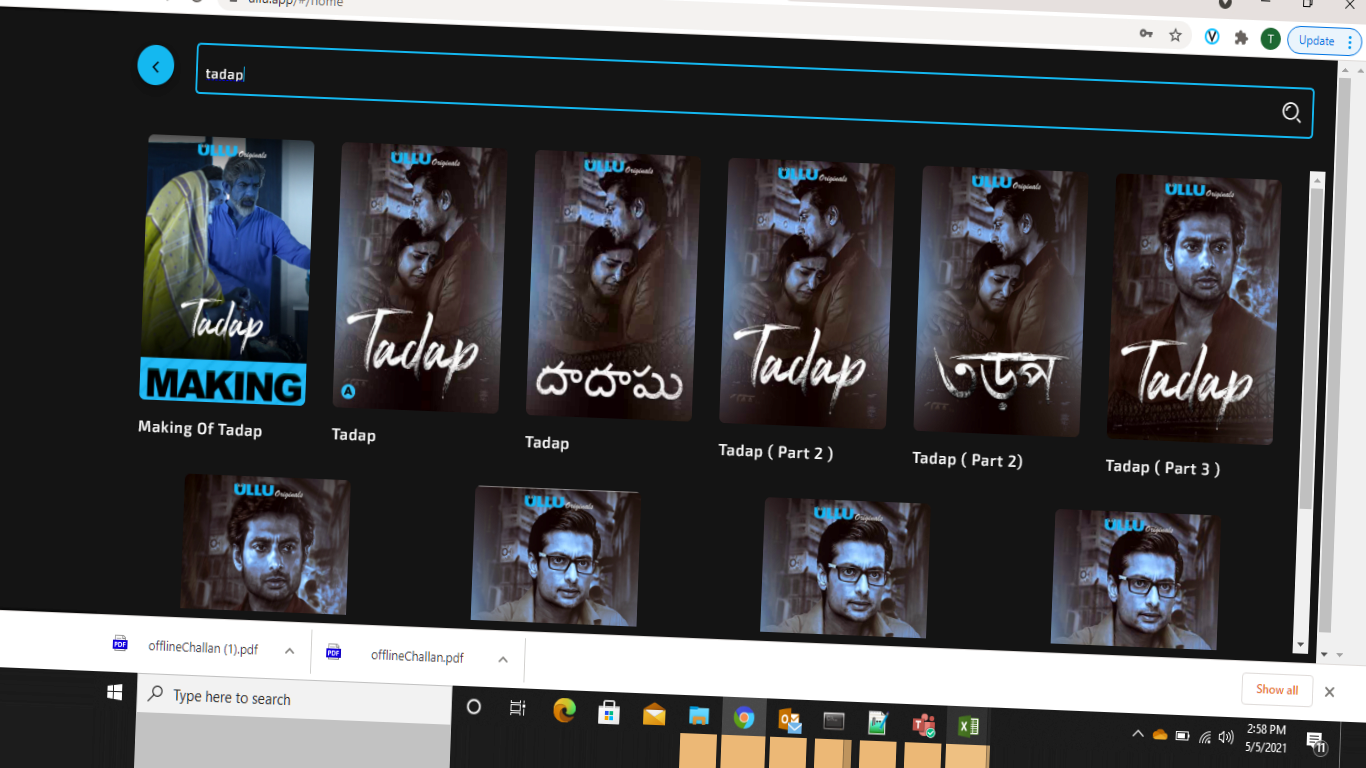searchicon: (1264, 83, 1316, 140)
searchtextbox: (194, 38, 1322, 155)
